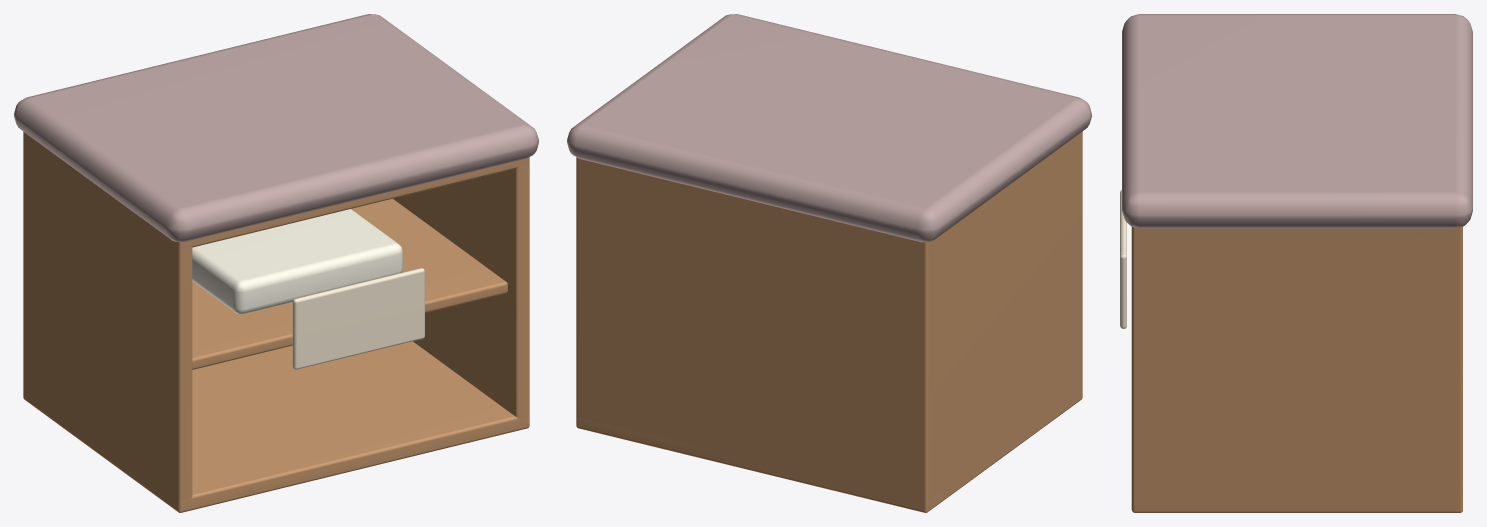
Rendered from japaneseCartonBox.glb.
The picture shows the model from 3 angles, left to right: view 1: azimuth 30°, elevation 25°; view 2: azimuth 150°, elevation 25°; view 3: azimuth 270°, elevation 25°; orthographic projection. The views are drawn at different scales.
Parts seen in each view (by area): view 1: Box lid, Storage inner side, Storage inner floor, Storage inner side.001, Stored folded linen, Storage interior shelf, Box label, Storage inner floor.001; view 2: Storage inner back, Box lid, Storage inner side, Storage inner floor, Storage inner side.001; view 3: Storage inner side.001, Box lid, Storage inner back, Storage inner floor.001, Box label, Storage inner floor.
Boxes of the visible parts, x1,y1,x2,y2 form: Box lid: [14, 14, 538, 242]; Storage inner side: [23, 132, 192, 512]; Storage inner floor: [23, 341, 529, 512]; Storage inner side.001: [393, 157, 529, 429]; Stored folded linen: [192, 209, 402, 314]; Storage interior shelf: [192, 198, 507, 369]; Box label: [292, 268, 424, 369]; Storage inner floor.001: [23, 132, 528, 248]; Storage inner back: [576, 157, 933, 512]; Box lid: [567, 14, 1091, 242]; Storage inner side: [915, 132, 1082, 511]; Storage inner floor: [576, 404, 1074, 512]; Storage inner side.001: [576, 160, 586, 430]; Storage inner side.001: [1131, 227, 1462, 512]; Box lid: [1122, 14, 1472, 228]; Storage inner back: [1448, 227, 1462, 512]; Storage inner floor.001: [1131, 227, 1462, 233]; Box label: [1120, 190, 1126, 328]; Storage inner floor: [1132, 500, 1462, 512].
Size of the model in its own units: 1.16 by 0.905 by 0.905.
